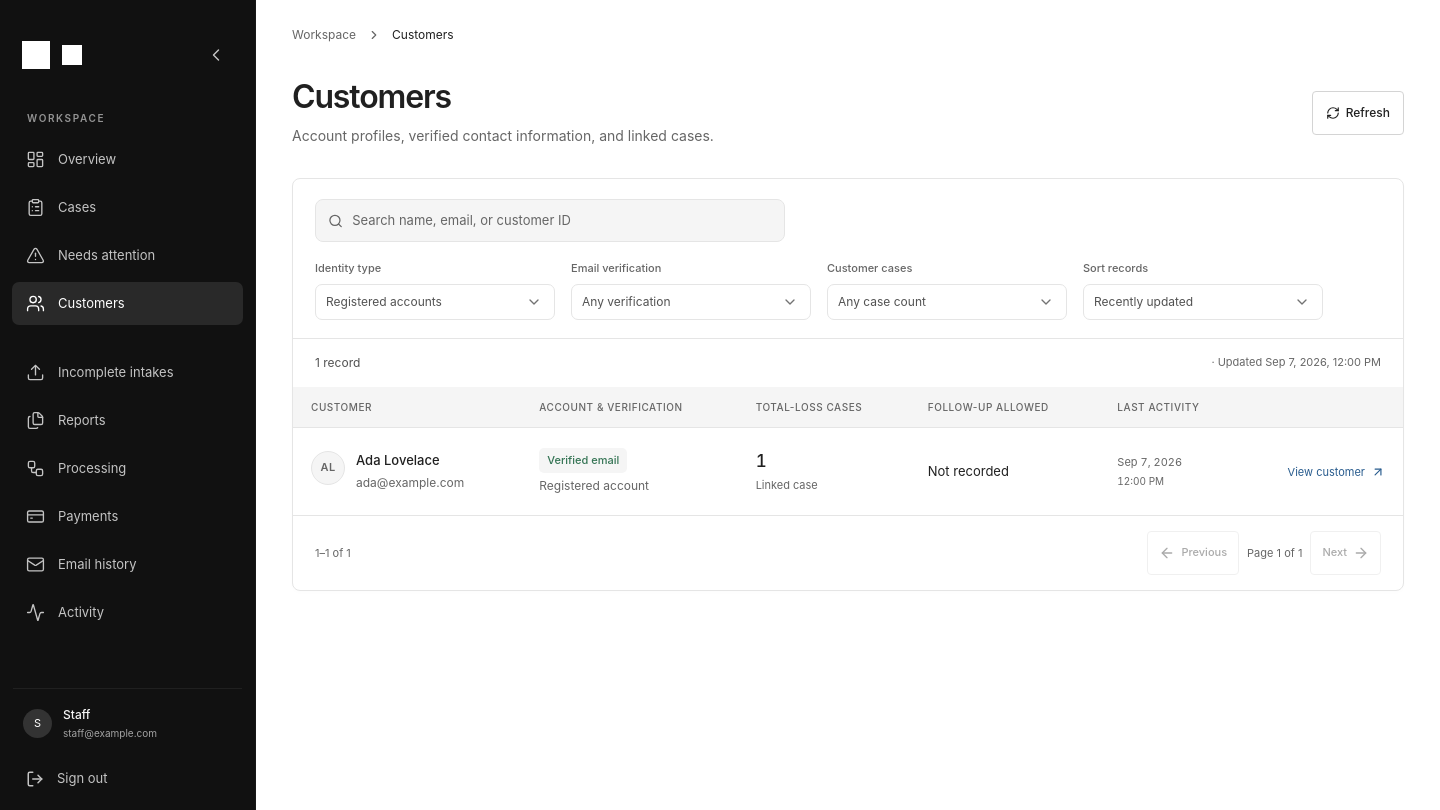
Scenario: admin operations workspace › purges protected records after same-session operations authorization is revoked
Expected: the link "Ada Lovelace" is shown, x1=356 y1=452 x2=440 y2=468
Click the button "Refresh".
click(1358, 113)  # box x1=1312 y1=91 x2=1404 y2=135
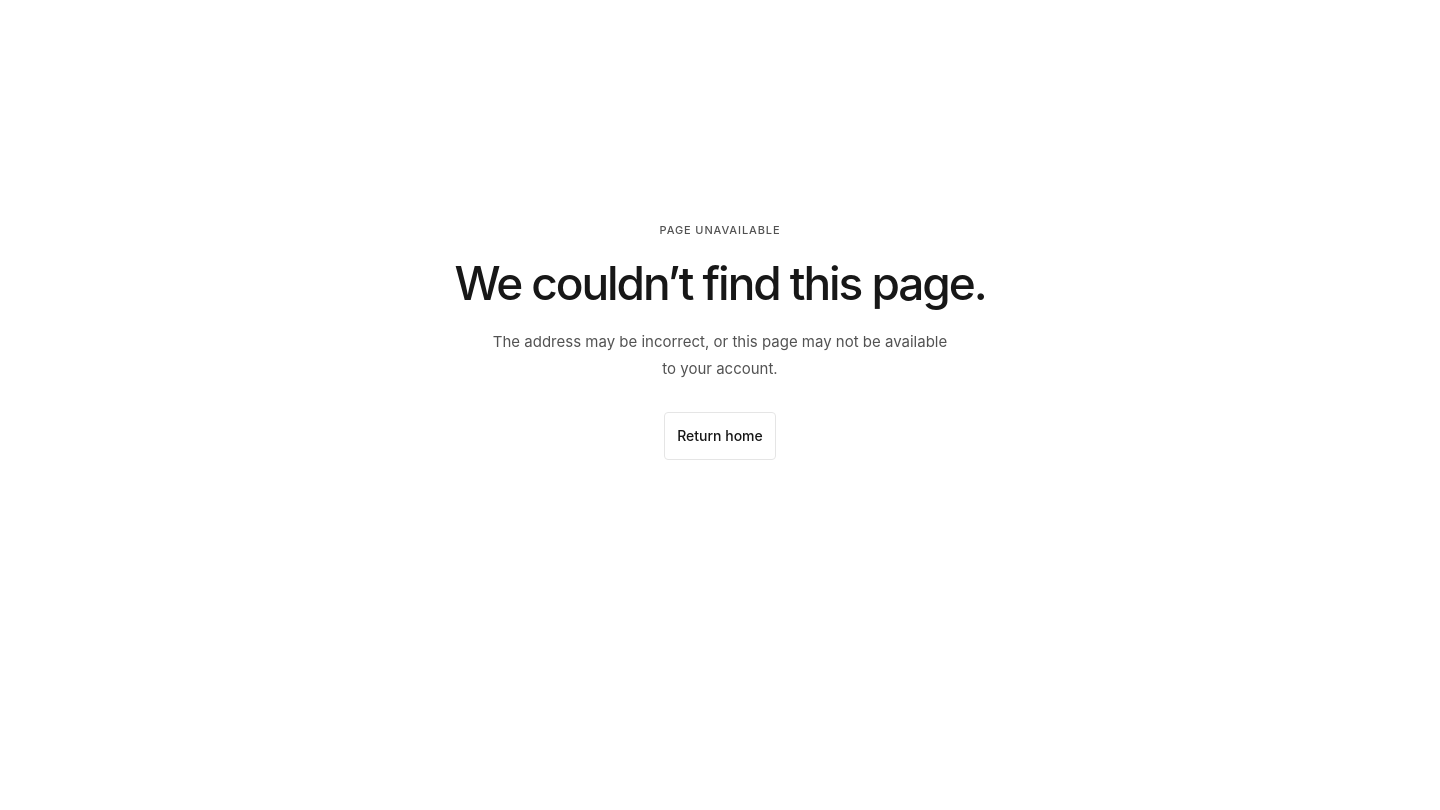
Now the heading "We couldn’t find this page." is shown, box x1=454 y1=255 x2=986 y2=311
Now the text "ada@example.com" is gone
